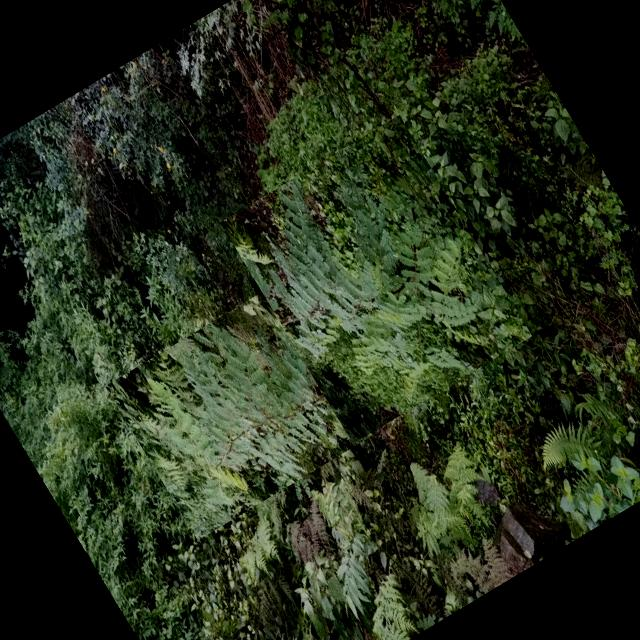Mysore-Thorn-Weed: (220, 114, 532, 443), (105, 281, 374, 541)
